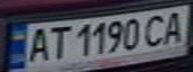0: (121, 16, 145, 51)
1: (72, 20, 93, 56), (90, 19, 109, 55)
9: (106, 17, 127, 53)
A: (21, 25, 54, 63), (157, 8, 190, 44)
C: (139, 11, 172, 47)
T: (45, 24, 69, 61)
